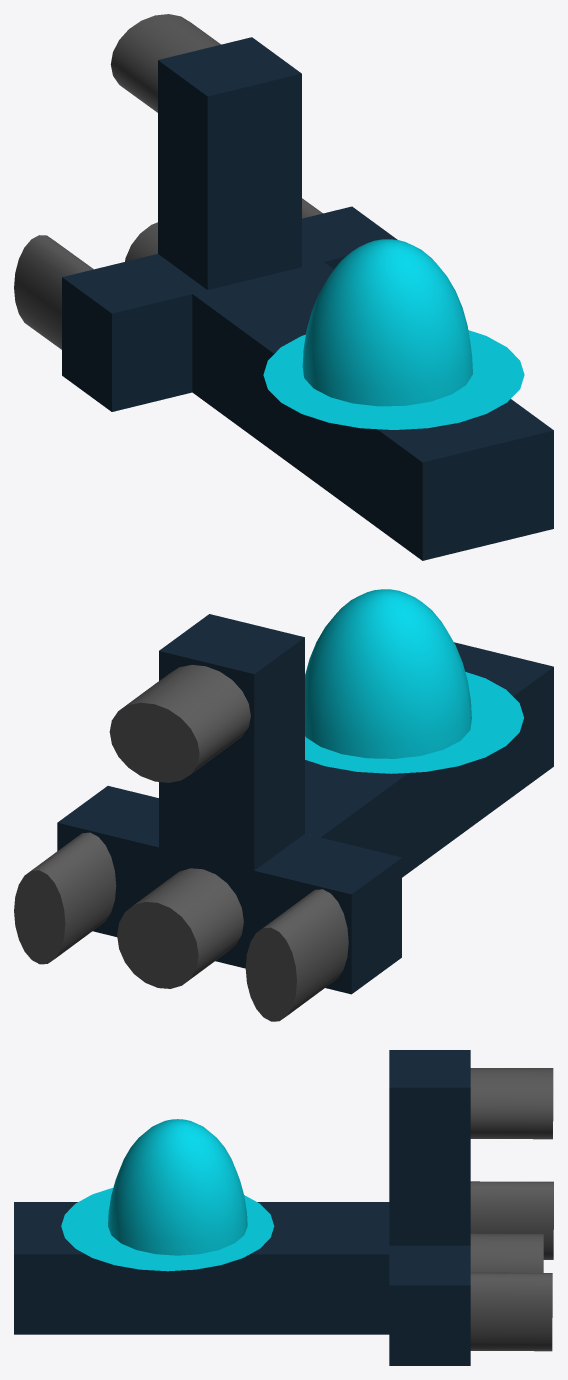
File: Spaceship_Stellar_Escape.fbx
3 renders of one model, top to bottom at view 1: azimuth 30°, elevation 25°; view 2: azimuth 150°, elevation 25°; view 3: azimuth 270°, elevation 25°, orthographic. The views are drawn at different scales.
Parts seen in each view (by area): view 1: polySurface9; view 2: polySurface9; view 3: polySurface9.
Part boxes in pixels (x1,y1,x2,y2): polySurface9: [14, 14, 553, 560]; polySurface9: [14, 589, 553, 1021]; polySurface9: [14, 1050, 553, 1365].
Bounding box in the file's own units: 0.9961 × 0.9592 × 1.97.
